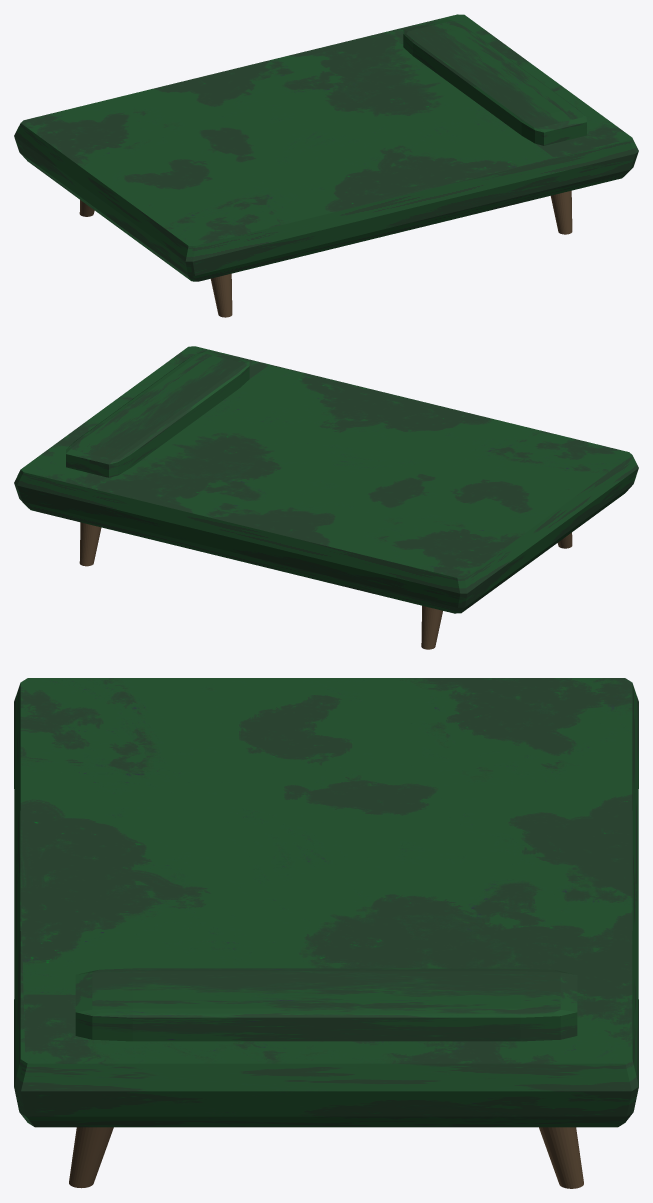
File: Bed.fbx
3 views of the same model, one above another, from view 1: azimuth 30°, elevation 25°; view 2: azimuth 150°, elevation 25°; view 3: azimuth 270°, elevation 25° (orthographic). The views are drawn at different scales.
Parts seen in each view (by area): view 1: Cube.001; view 2: Cube.001; view 3: Cube.001.
Boxes of the visible parts, bbox=[...] form: Cube.001: bbox=[14, 14, 638, 317]; Cube.001: bbox=[14, 346, 638, 649]; Cube.001: bbox=[14, 678, 638, 1188].
Size of the model in its own units: 372 by 84.37 by 249.
